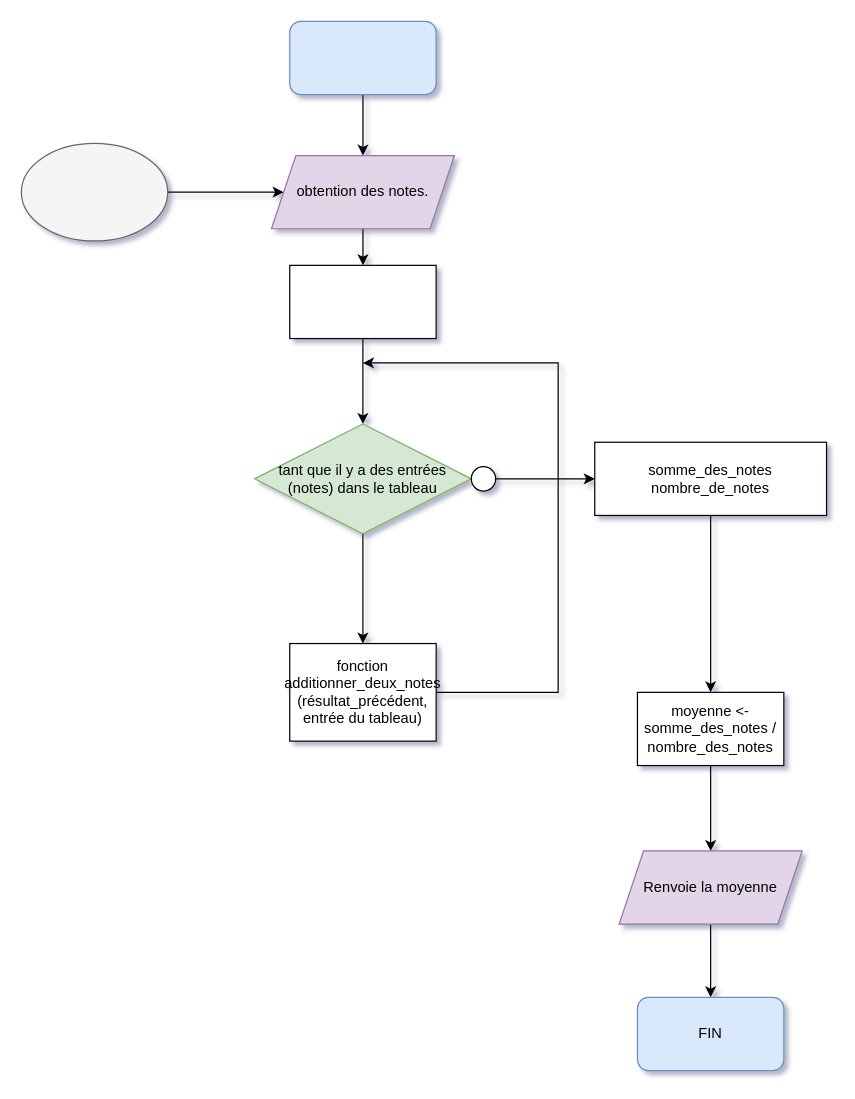
This 855x1099 diagram has some shape labels left out. Each missing label, with the centre of its shape:
"DEBUT : calculer une moyenne" goes at (x=362, y=57).
"manière d'obtention des notes" goes at (x=94, y=191).
"Mettre ces notes dans un tableau" goes at (x=362, y=301).
